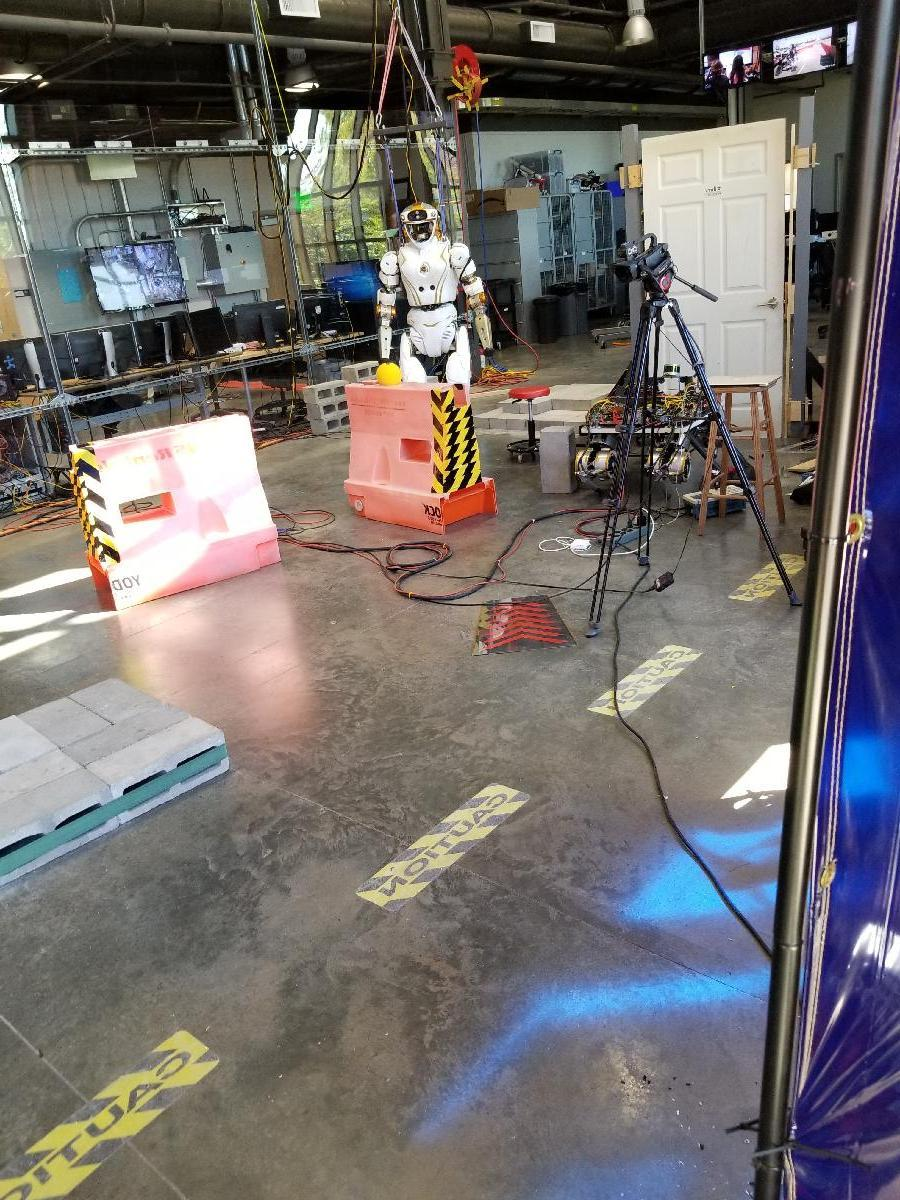door: (646, 118, 784, 446)
handle: (752, 294, 780, 314)
